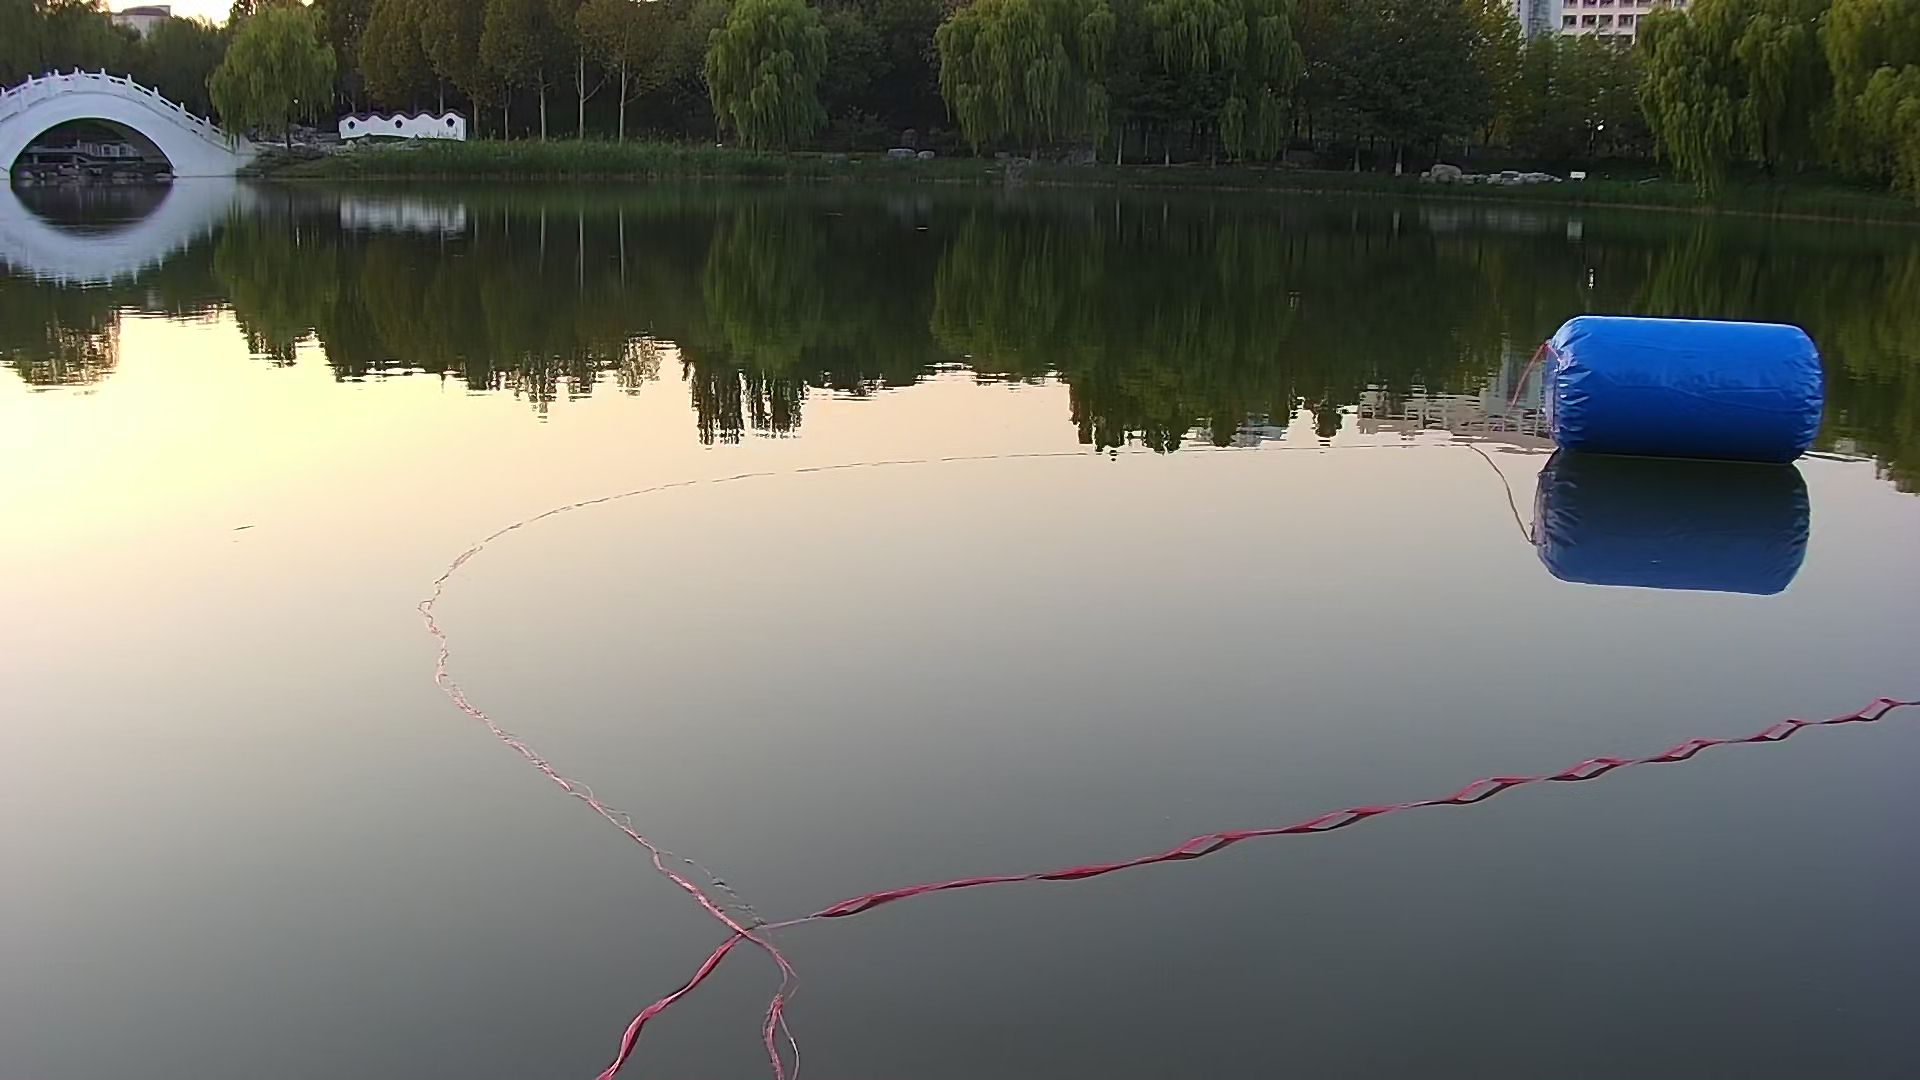bridge: (1, 70, 269, 179)
rubbish: (1528, 305, 1830, 468)
